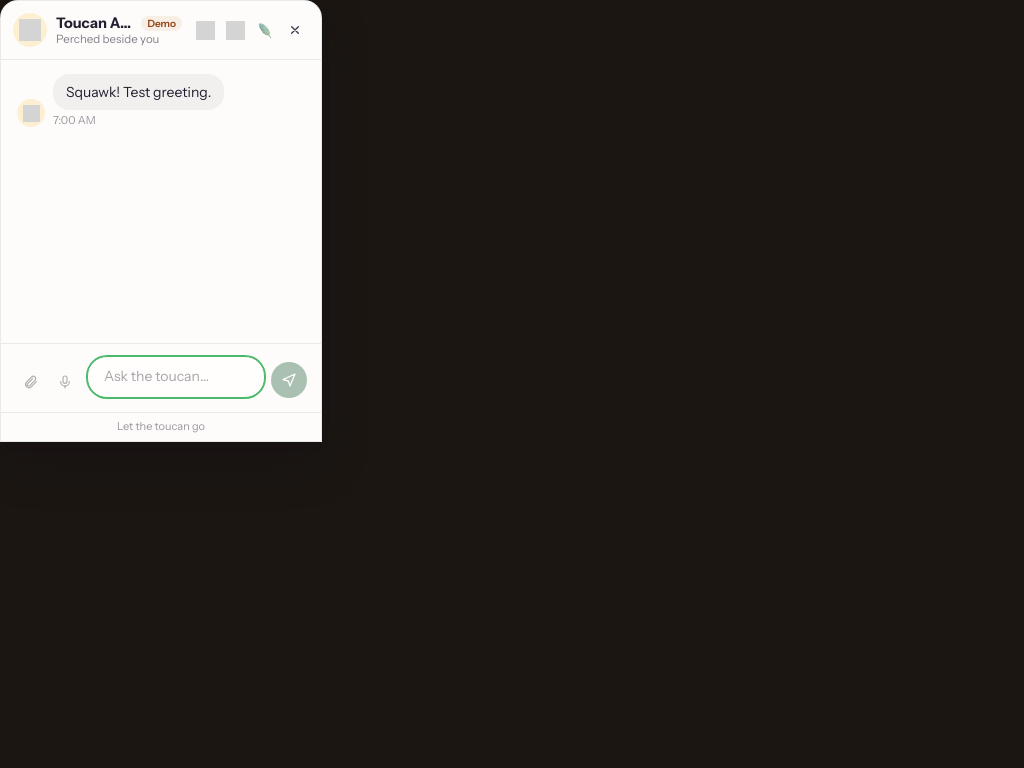
Scenario: Toucan T9 production polish › history › deletes one conversation through the existing endpoint
This screenshot has width=1024, height=768.
Click the button named "Conversation history" at point(205, 30), box [191,16,219,44]
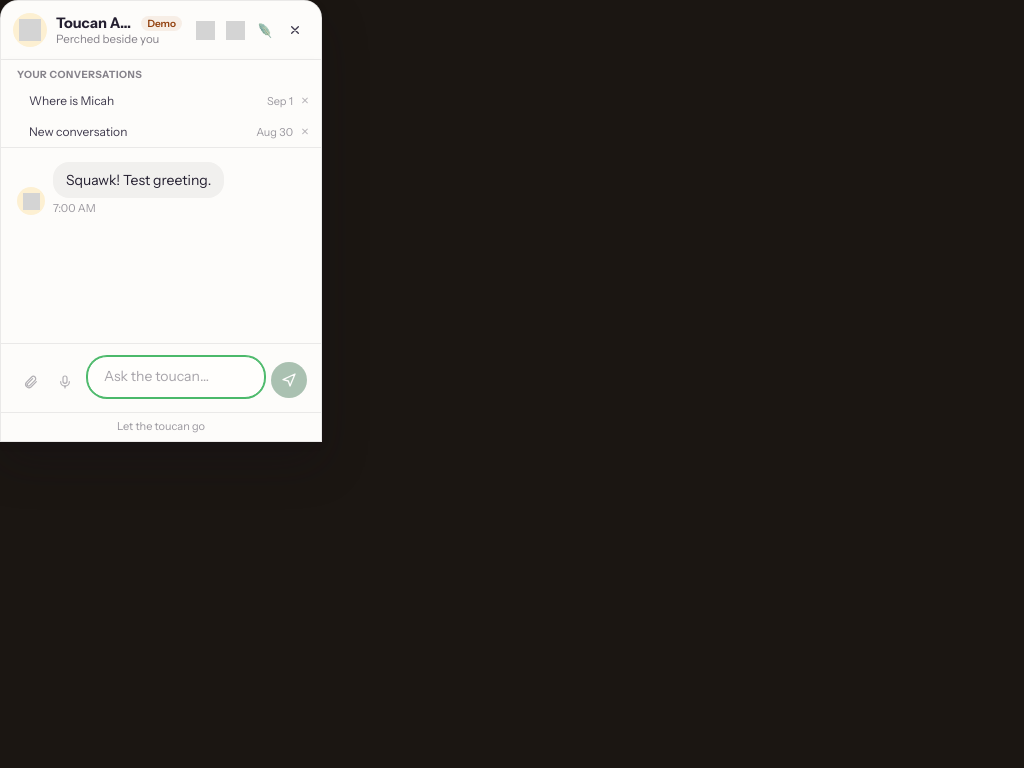
Click the button named "Delete conversation Where is Micah" at point(309, 100), box [297,85,321,116]
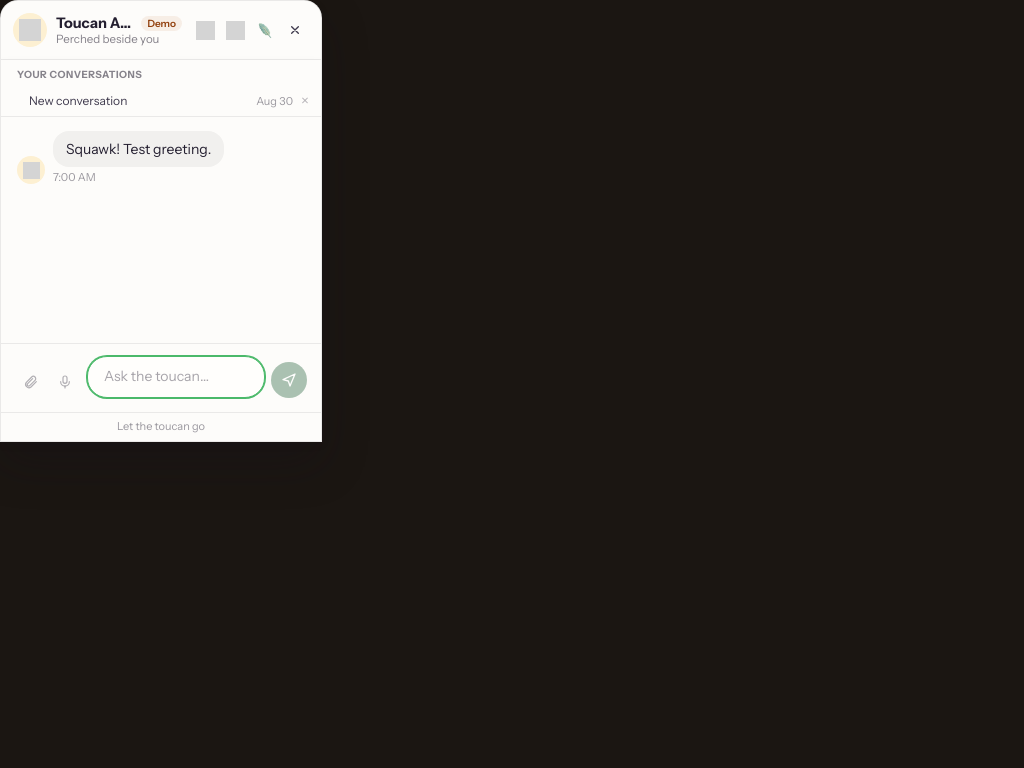
Result: the text "New conversation" is shown at [29,93,127,108]
Result: the menu item "Where is Micah" is gone
